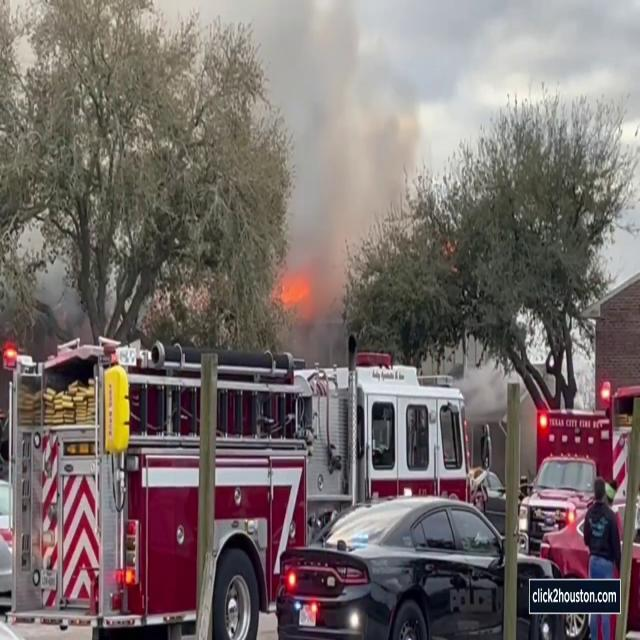Fire: (271, 258, 316, 318)
Smoke: (276, 3, 422, 344)
